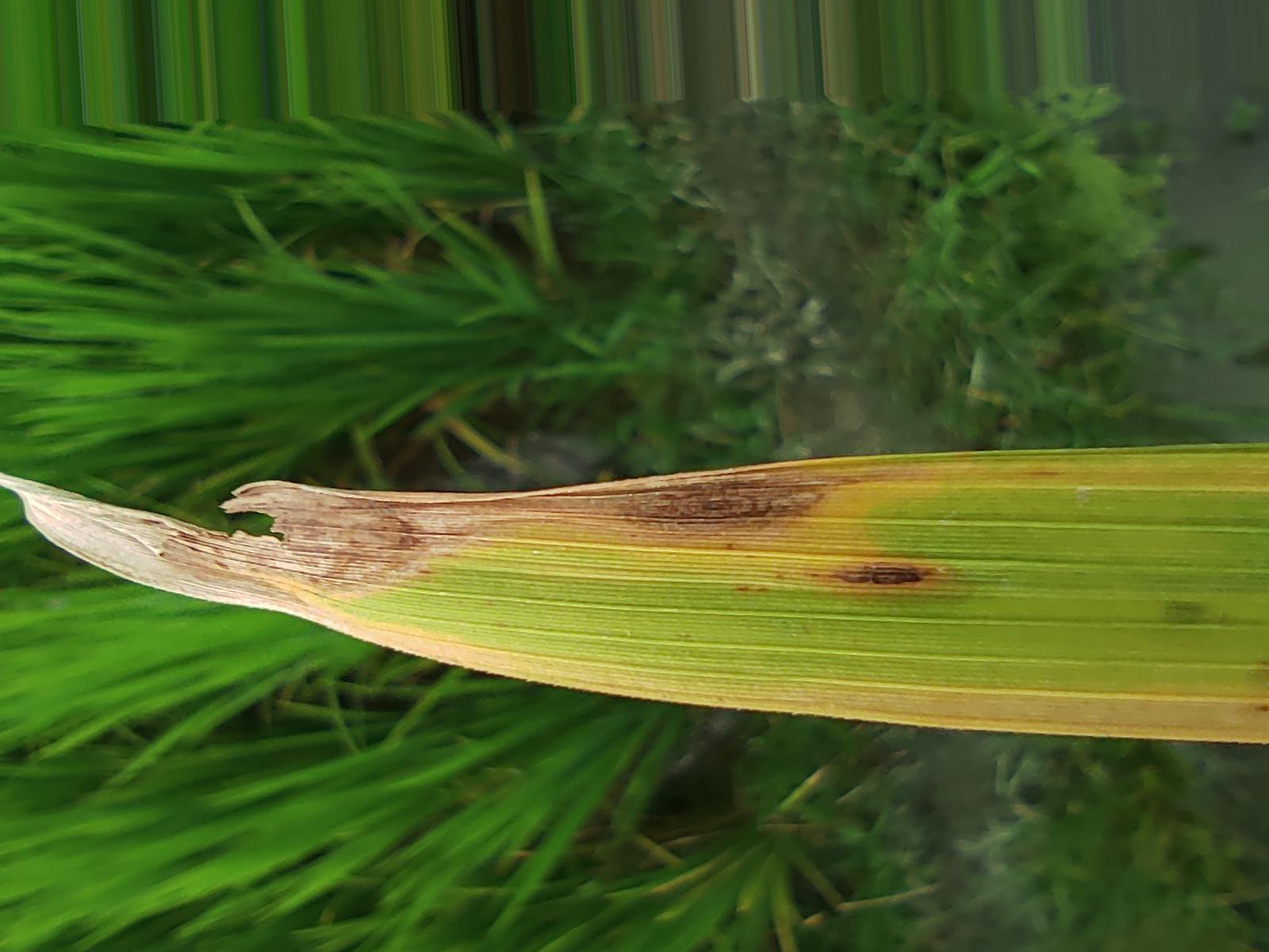LEAF: (1, 446, 1268, 743)
NBS: (811, 564, 936, 588), (739, 587, 769, 593)
